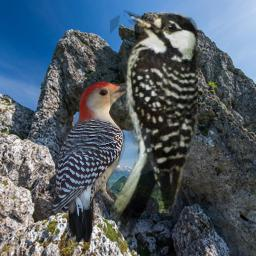Woodpecker: (110, 9, 198, 246), (51, 80, 146, 242)
